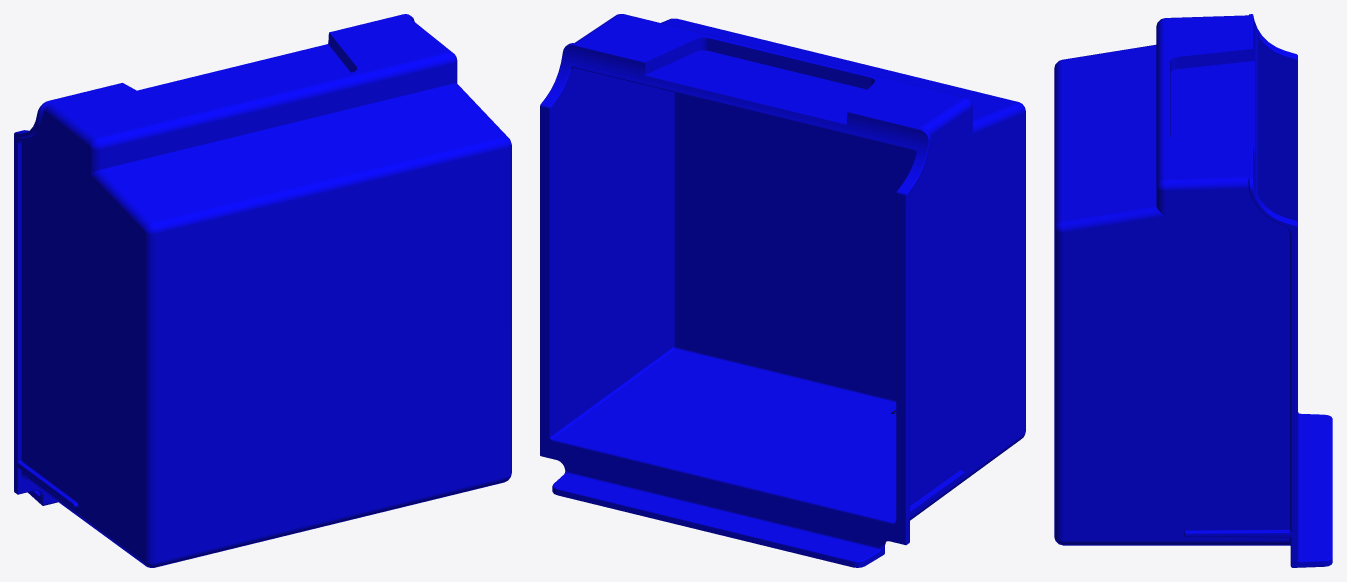
The model's file is Slatwall_Bin_5.5in.glb.
3 renders of one model, left to right at view 1: azimuth 30°, elevation 25°; view 2: azimuth 150°, elevation 25°; view 3: azimuth 270°, elevation 25°, orthographic. The views are drawn at different scales.
Visible parts, largest first — view 1: Solid2; view 2: Solid2; view 3: Solid2.
Boxes of the visible parts, bbox=[...] form: Solid2: bbox=[14, 14, 511, 567]; Solid2: bbox=[540, 14, 1025, 567]; Solid2: bbox=[1054, 14, 1332, 567].
Size of the model in its own units: 0.1397 by 0.1509 by 0.0958.
